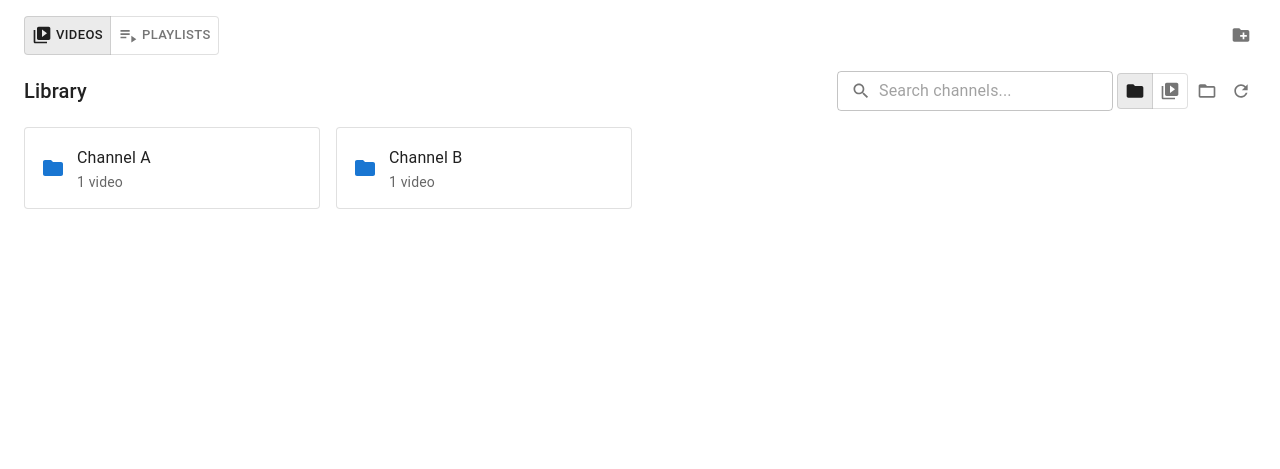
Test: LibraryScreen › switches to the flat by-video list, sorted alphabetically and tagged with channel name
The width and height of the screenshot is (1280, 469).
Expected: the heading "Channel A" is shown, [77,144,151,172]
Step 1. Click the button named "By video" → (1170, 91), box [1152,73,1188,109]
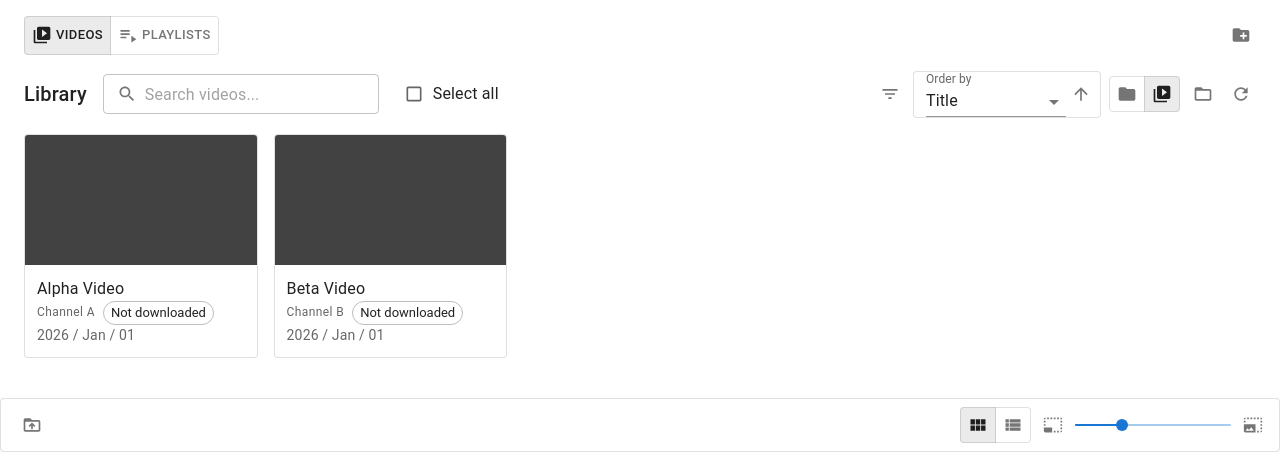
Now the elements "Video" read "Alpha Video", "Beta Video", in this order, box [37,279,124,298]; [287,279,365,298]
